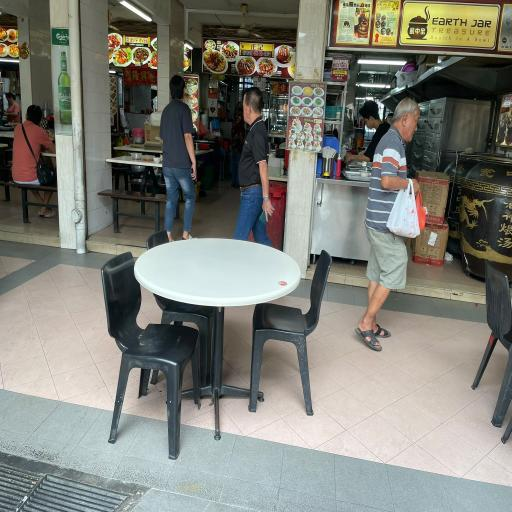person_left: (231, 88, 275, 242)
person_right: (355, 98, 424, 351)
